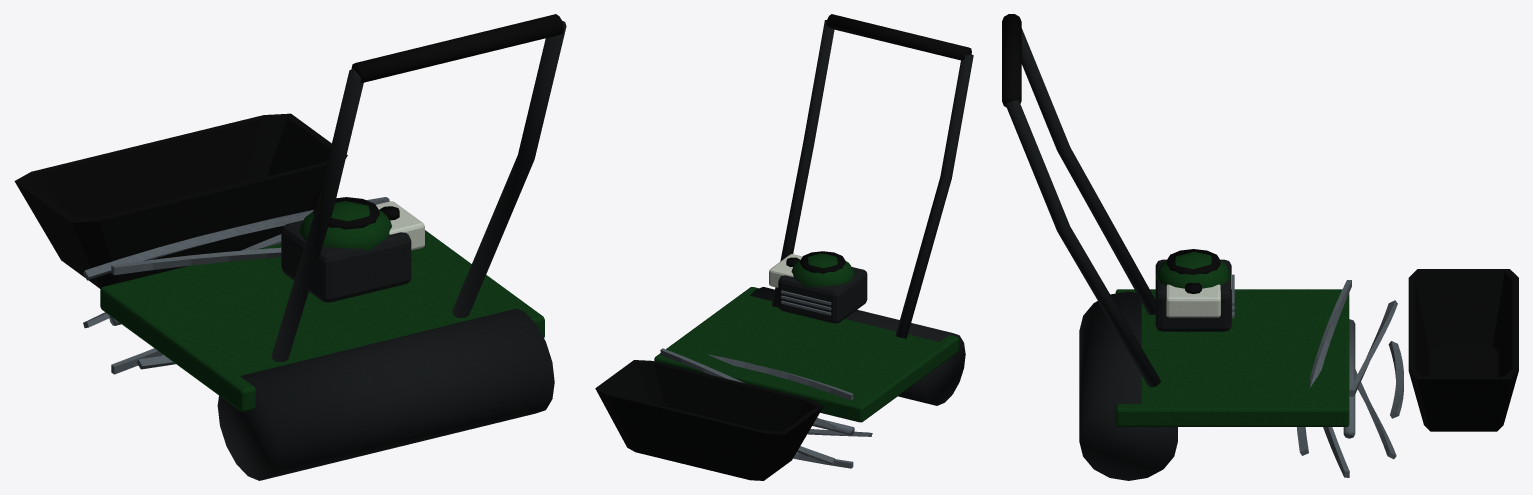
Rendered from CommercialReelMower.gltf.
3 views of the same model, side by side, from view 1: azimuth 30°, elevation 25°; view 2: azimuth 150°, elevation 25°; view 3: azimuth 270°, elevation 25° (orthographic). The views are drawn at different scales.
Visible parts, largest first — view 1: CommercialReelMower__Body, CommercialReelMower__Wheel_Drum, CommercialReelMower__Wheel_Reel; view 2: CommercialReelMower__Body, CommercialReelMower__Wheel_Drum, CommercialReelMower__Wheel_Reel; view 3: CommercialReelMower__Body, CommercialReelMower__Wheel_Drum, CommercialReelMower__Wheel_Reel.
Boxes of the visible parts, x1=… form: CommercialReelMower__Body: x1=14, y1=14, x2=566, y2=411; CommercialReelMower__Wheel_Drum: x1=217, y1=308, x2=554, y2=480; CommercialReelMower__Wheel_Reel: x1=83, y1=197, x2=389, y2=374; CommercialReelMower__Body: x1=595, y1=14, x2=973, y2=480; CommercialReelMower__Wheel_Drum: x1=750, y1=287, x2=965, y2=405; CommercialReelMower__Wheel_Reel: x1=660, y1=348, x2=872, y2=468; CommercialReelMower__Body: x1=1002, y1=14, x2=1518, y2=431; CommercialReelMower__Wheel_Drum: x1=1079, y1=291, x2=1177, y2=480; CommercialReelMower__Wheel_Reel: x1=1297, y1=280, x2=1403, y2=477.
Size of the model in its own units: 0.7 by 1 by 1.26.
1 material, 1 textured.
